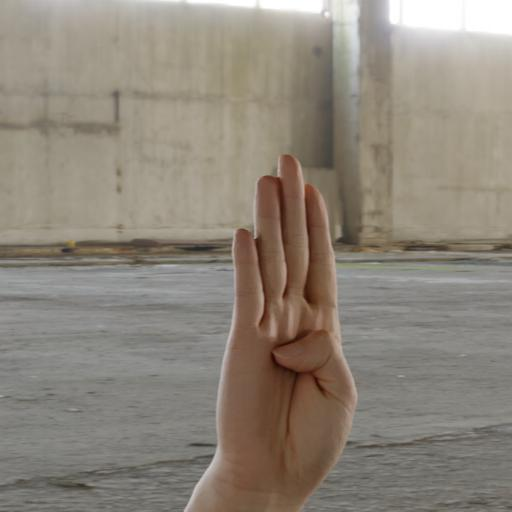B: (214, 147, 362, 499)
